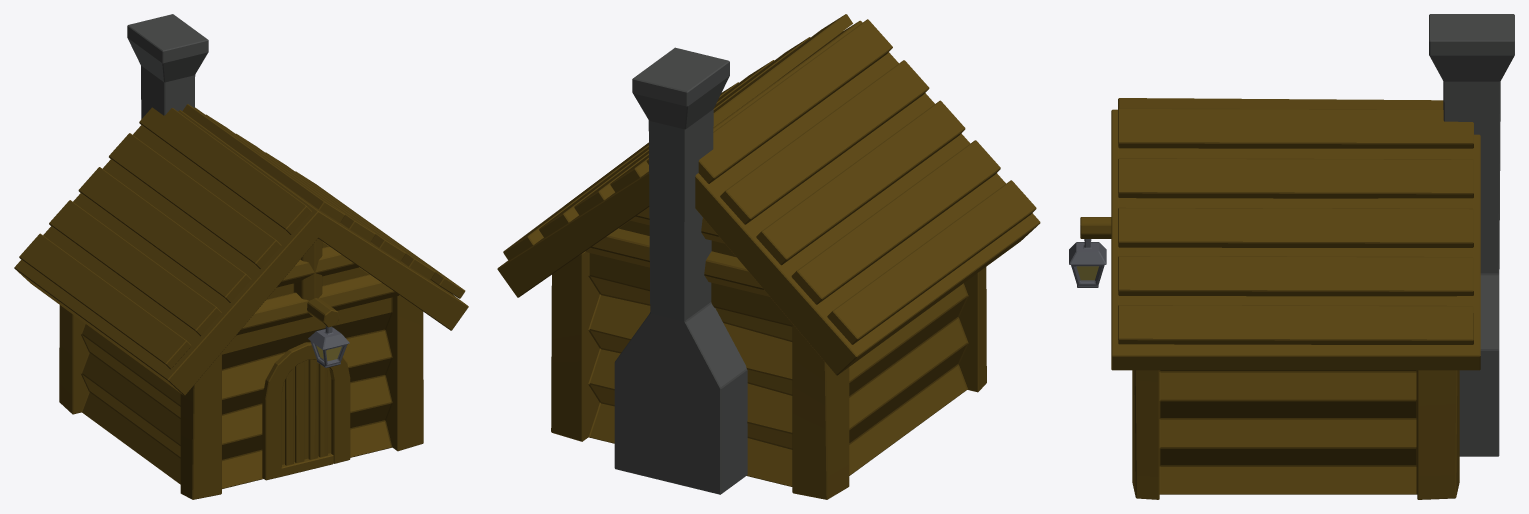
Rendered from Cabin.fbx.
3 views of the same model, side by side, from view 1: azimuth 30°, elevation 25°; view 2: azimuth 150°, elevation 25°; view 3: azimuth 270°, elevation 25° (orthographic). The views are drawn at different scales.
Visible parts, largest first — view 1: Cabin; view 2: Cabin; view 3: Cabin.
Boxes of the visible parts, <box> form: Cabin: <box>14,14,468,499</box>; Cabin: <box>497,14,1040,499</box>; Cabin: <box>1069,14,1514,499</box>.
Bounding box in the file's own units: 817 × 874 × 874.
